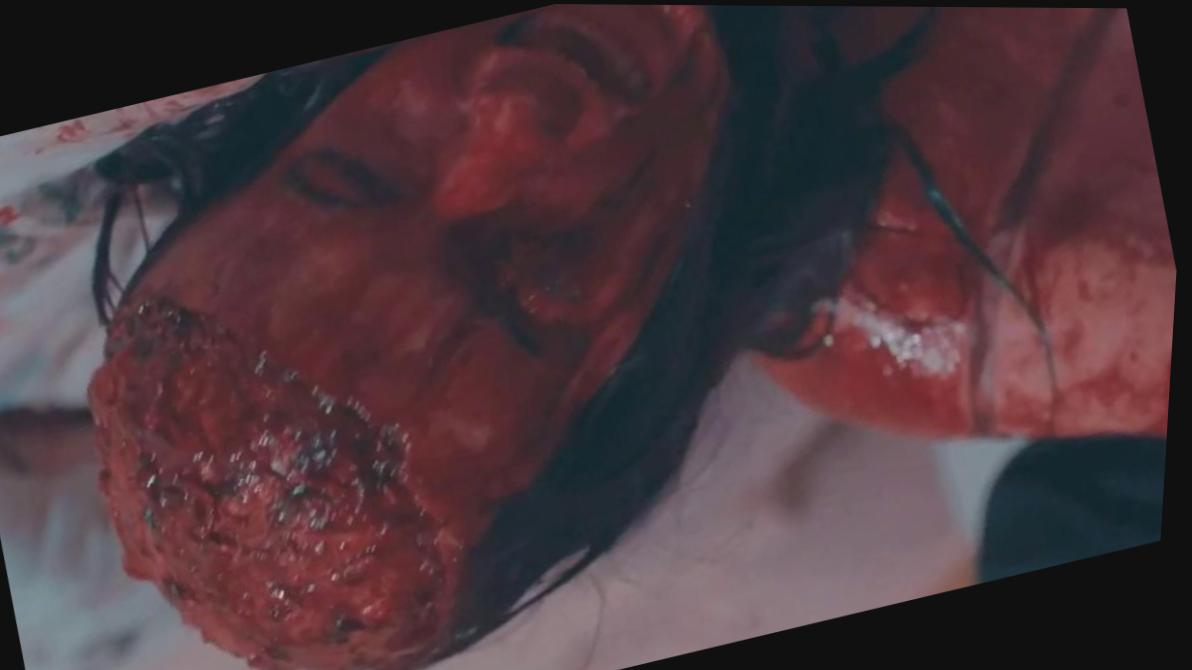Fire: (97, 3, 727, 670), (768, 5, 1180, 436), (0, 73, 263, 204)
